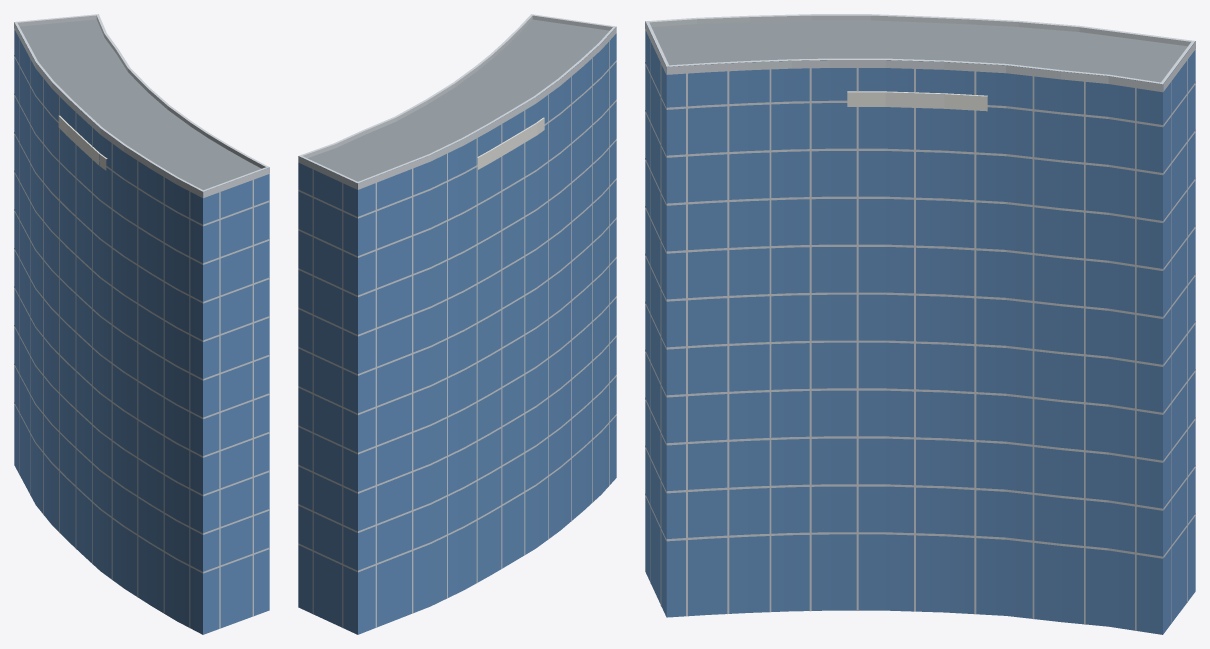
The model's file is indy-jw-marriott.glb.
3 views of the same model, side by side, from view 1: azimuth 30°, elevation 25°; view 2: azimuth 150°, elevation 25°; view 3: azimuth 270°, elevation 25° (orthographic). The views are drawn at different scales.
Visible parts, largest first — view 1: JW Marriott Indianapolis; view 2: JW Marriott Indianapolis; view 3: JW Marriott Indianapolis.
Boxes of the visible parts, <box> form: JW Marriott Indianapolis: <box>14,14,269,634</box>; JW Marriott Indianapolis: <box>298,14,616,634</box>; JW Marriott Indianapolis: <box>645,14,1195,634</box>.
Size of the model in its own units: 31.01 by 112 by 102.
